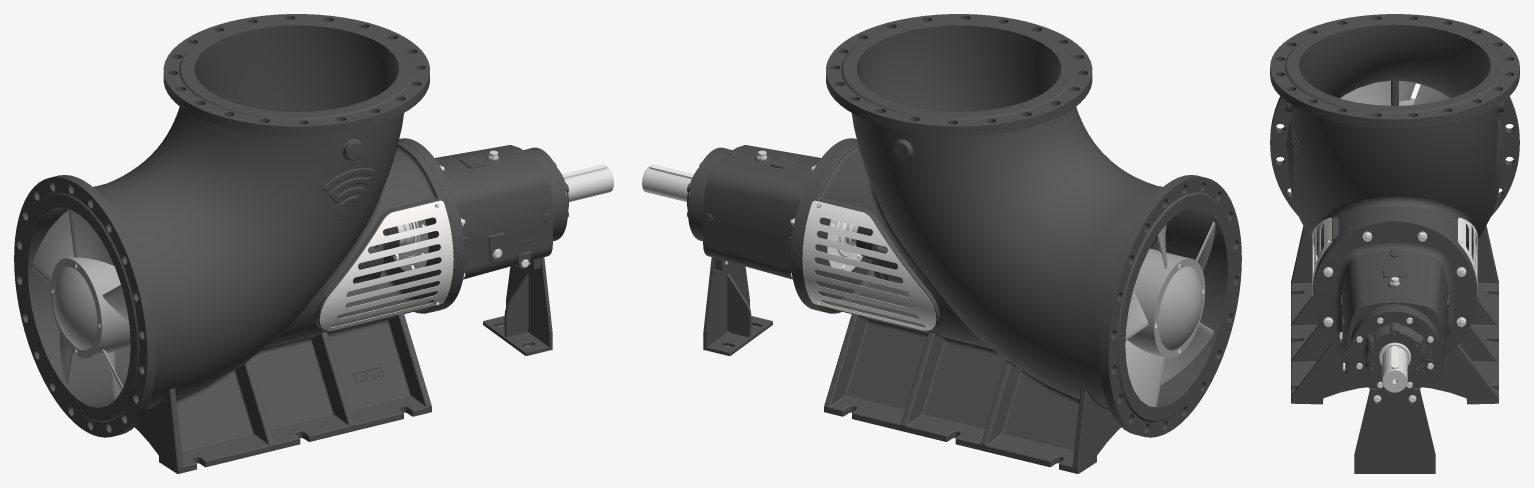
File: ASL-600H.glb
The picture shows the model from 3 angles, left to right: view 1: azimuth 30°, elevation 25°; view 2: azimuth 150°, elevation 25°; view 3: azimuth 270°, elevation 25°; orthographic projection. The views are drawn at different scales.
Visible parts, largest first — view 1: Body1.031, Body1.001, Body1.050, Body1.032, Body1.045, Body1.039, Body1.003, Body1.038, Body1.040; view 2: Body1.031, Body1.001, Body1.051, Body1.032, Body1.045, Body1.039, Body1.003, Body1.038, Body1.040; view 3: Body1.031, Body1.001, Body1.039, Body1.002, Body1.032, Body1.003, Body1.051, Body1.050.
Part boxes in pixels (x1,y1,x2,y2): Body1.031: (14,14,456,473); Body1.001: (399,138,563,311); Body1.050: (319,200,453,330); Body1.032: (32,209,130,399); Body1.045: (50,257,106,358); Body1.039: (506,257,552,347); Body1.003: (397,166,613,246); Body1.038: (504,274,528,337); Body1.040: (483,316,552,355); Body1.031: (799,14,1241,473); Body1.001: (692,138,856,311); Body1.051: (802,200,936,330); Body1.032: (1125,221,1215,406); Body1.045: (1149,257,1205,358); Body1.039: (703,257,749,347); Body1.003: (642,166,858,246); Body1.038: (727,274,751,337); Body1.040: (703,316,772,355); Body1.031: (1270,14,1519,404); Body1.001: (1312,217,1477,402); Body1.039: (1354,388,1435,470); Body1.002: (1350,309,1439,392); Body1.032: (1340,80,1449,105); Body1.003: (1379,342,1410,392); Body1.051: (1458,217,1477,295); Body1.050: (1312,217,1331,295).
Bounding box in the file's own units: 1.85 × 1.04 × 0.78.
Materials: 14 (3 with a texture image).
